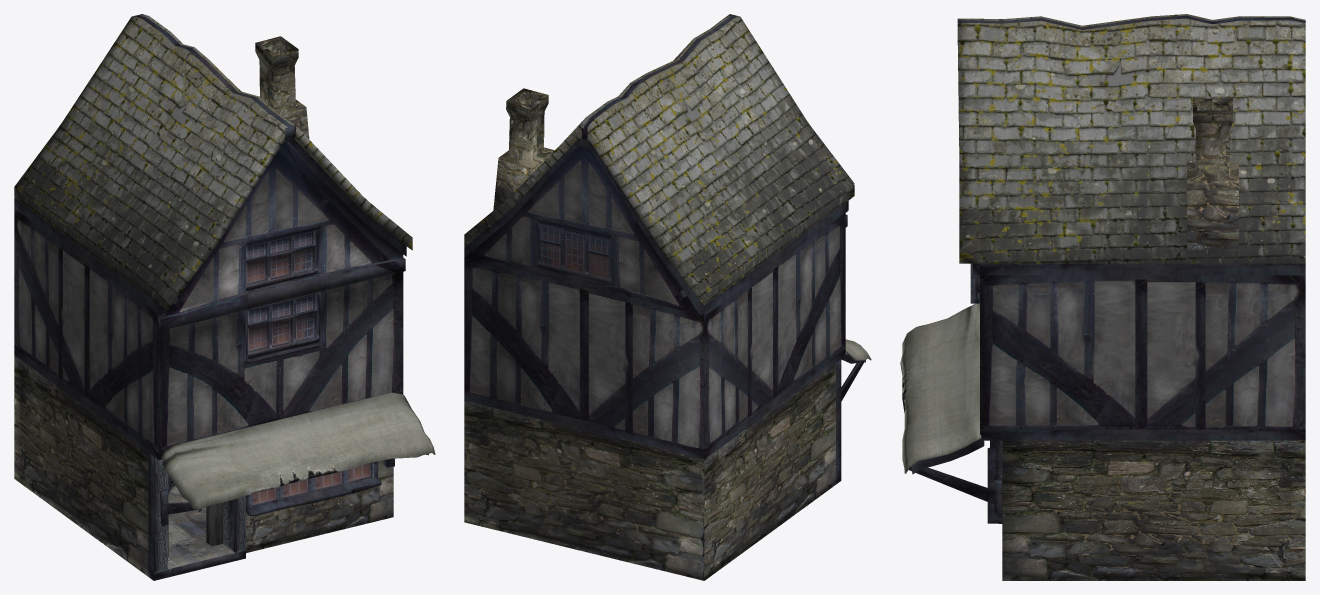
The model's file is medhouse_22.fbx.
The picture shows the model from 3 angles, left to right: view 1: azimuth 30°, elevation 25°; view 2: azimuth 150°, elevation 25°; view 3: azimuth 270°, elevation 25°; orthographic projection. The views are drawn at different scales.
Visible parts, largest first — view 1: medhouse22, medhouse22_interior; view 2: medhouse22; view 3: medhouse22.
Boxes of the visible parts, x1=… form: medhouse22: x1=14, y1=14, x2=435, y2=580; medhouse22_interior: x1=168, y1=485, x2=206, y2=551; medhouse22: x1=464, y1=14, x2=871, y2=580; medhouse22: x1=900, y1=14, x2=1305, y2=580.
Bounding box in the file's own units: 623 × 1055 × 781.
